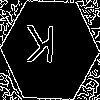K: (25, 25, 56, 72)
